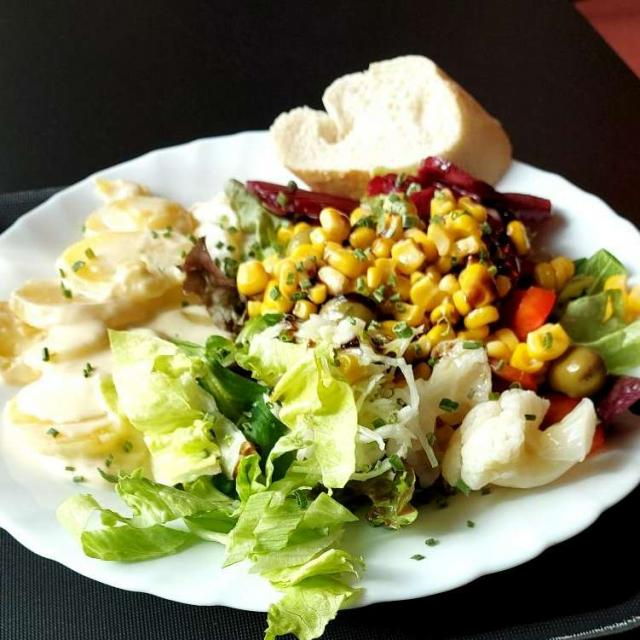beetroot-steamed-without-addition-of-salt: (383, 169, 554, 289)
bell-pepper-red-raw: (521, 282, 554, 337)
bread-french-white-flour: (284, 68, 510, 193)
cauliflower: (441, 399, 599, 500)
green-olives: (548, 346, 610, 394)
potatoes-au-gratin-dauphinois-prepared: (6, 188, 193, 463)
salad-leaf-salad-green: (73, 318, 444, 638)
sweet-corn-canned: (242, 217, 562, 366)
white-cabbage: (303, 311, 433, 484)
